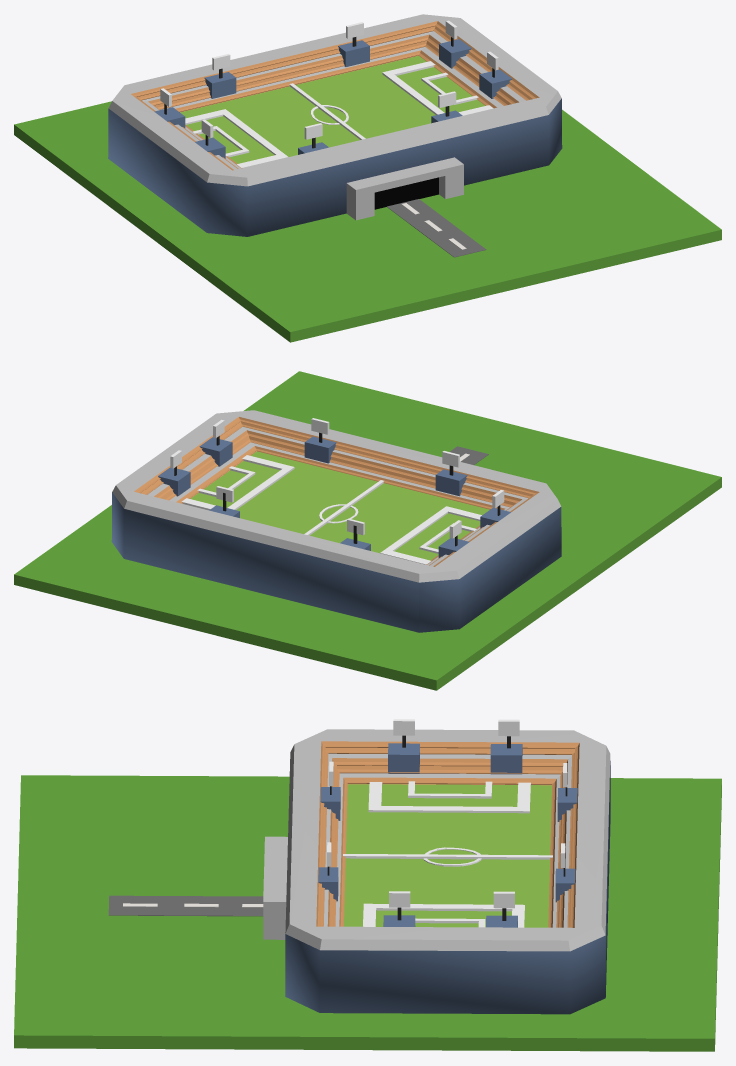
Rendered from SoccerField.fbx.
3 renders of one model, top to bottom at view 1: azimuth 30°, elevation 25°; view 2: azimuth 150°, elevation 25°; view 3: azimuth 270°, elevation 25°, orthographic. The views are drawn at different scales.
Parts seen in each view (by area): view 1: Node; view 2: Node; view 3: Node.
Part boxes in pixels (x1=…): Node: x1=14, y1=14, x2=721, y2=342; Node: x1=14, y1=371, x2=721, y2=690; Node: x1=14, y1=719, x2=721, y2=1051.
Bounding box in the file's own units: 2284 × 450 × 2593.
